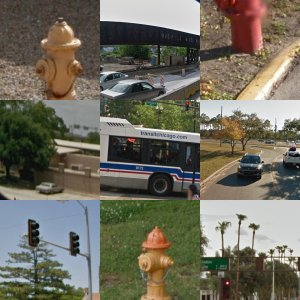汽車: (203, 53, 285, 101), (272, 36, 300, 64), (61, 132, 86, 152), (29, 39, 54, 55), (16, 124, 35, 141), (65, 37, 85, 50)
腳踏車: (112, 160, 173, 195)
行人穿越道: (200, 132, 297, 182), (200, 224, 295, 269), (102, 250, 202, 285)
